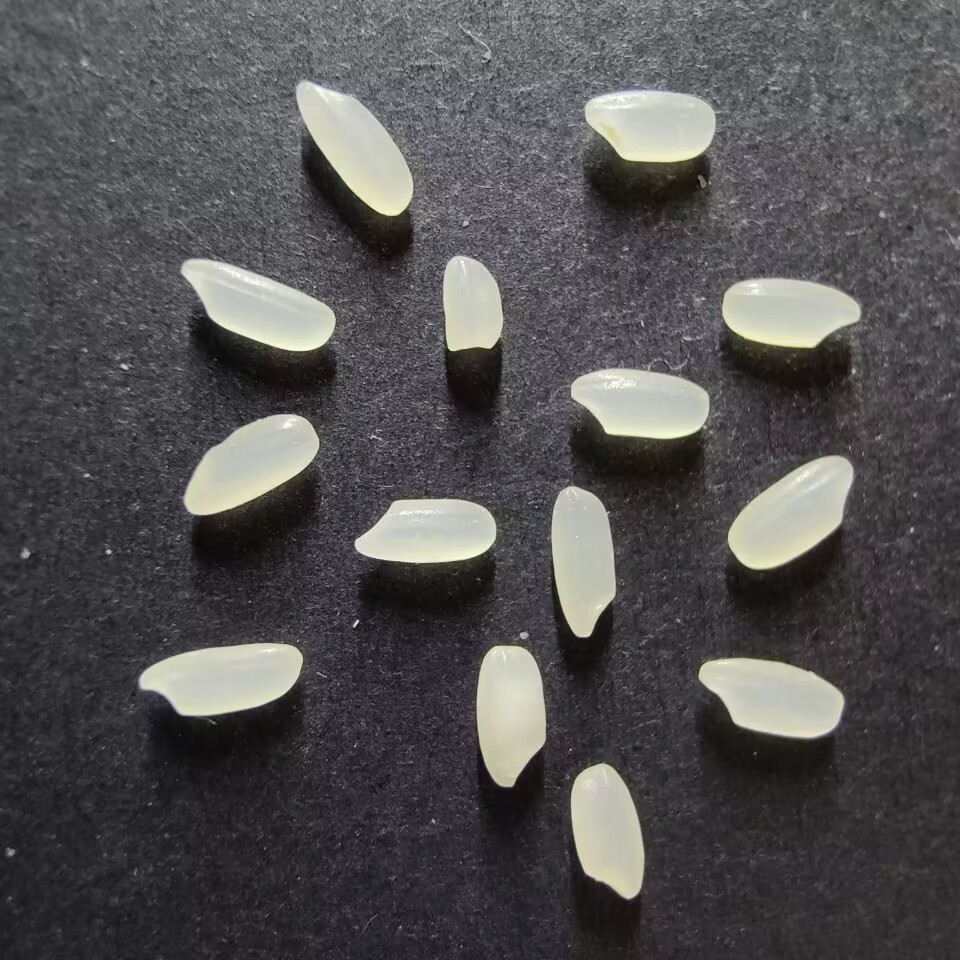broken: (441, 255, 503, 350)
rice: (294, 80, 414, 216), (179, 257, 334, 351), (727, 455, 853, 570), (183, 413, 319, 516), (138, 642, 303, 717), (697, 657, 844, 737), (569, 763, 644, 899), (475, 644, 546, 787), (550, 486, 616, 638), (570, 367, 710, 438), (721, 278, 861, 348), (583, 90, 716, 163), (354, 498, 496, 563)
